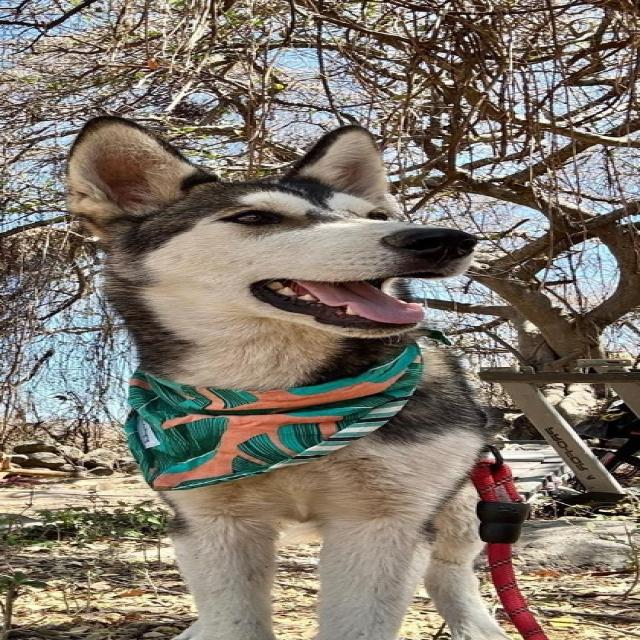siberian_husky_dog: (48, 103, 496, 367)
